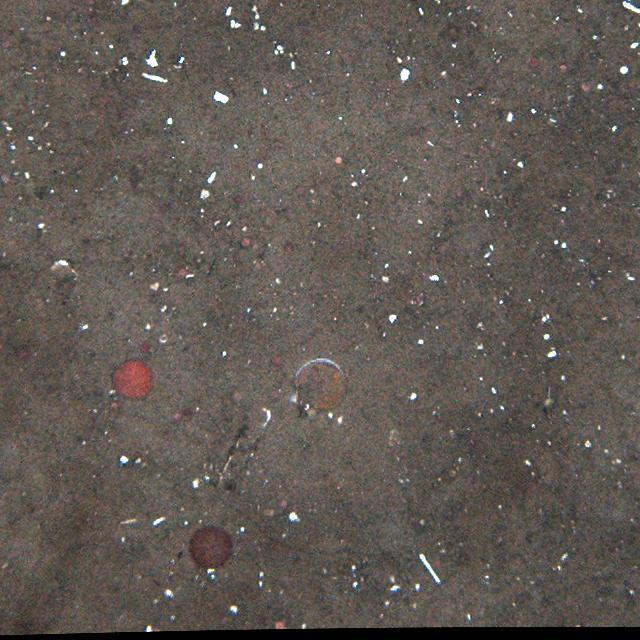scallop: (290, 357, 348, 411)
